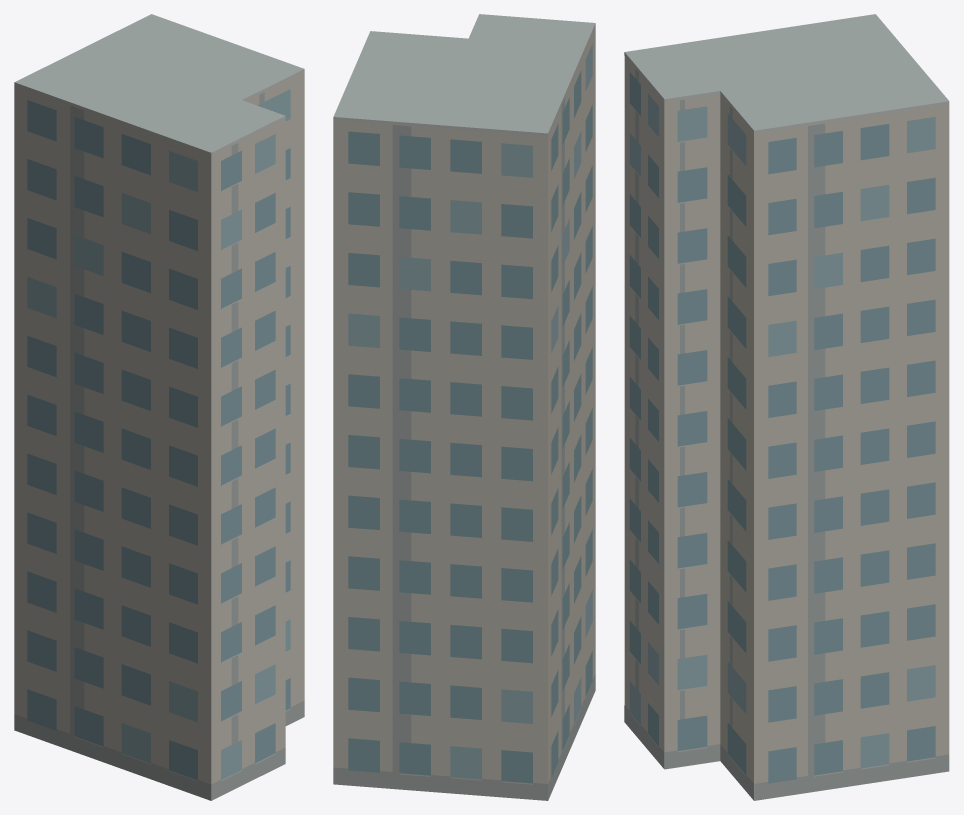
Rendered from residential-27113989-16eb-48b3-a76e-4e346fdf4207.glb.
3 renders of one model, left to right at view 1: azimuth 30°, elevation 25°; view 2: azimuth 150°, elevation 25°; view 3: azimuth 270°, elevation 25°, orthographic. The views are drawn at different scales.
Visible parts, largest first — view 1: residential-27113989-16eb-48b3-a76e-4e346fdf4207.tmp; view 2: residential-27113989-16eb-48b3-a76e-4e346fdf4207.tmp; view 3: residential-27113989-16eb-48b3-a76e-4e346fdf4207.tmp.
Part boxes in pixels (bbox=[...]): residential-27113989-16eb-48b3-a76e-4e346fdf4207.tmp: bbox=[14, 14, 304, 800]; residential-27113989-16eb-48b3-a76e-4e346fdf4207.tmp: bbox=[333, 14, 595, 800]; residential-27113989-16eb-48b3-a76e-4e346fdf4207.tmp: bbox=[624, 14, 949, 800].
Size of the model in its own units: 17.57 by 47 by 20.66.
